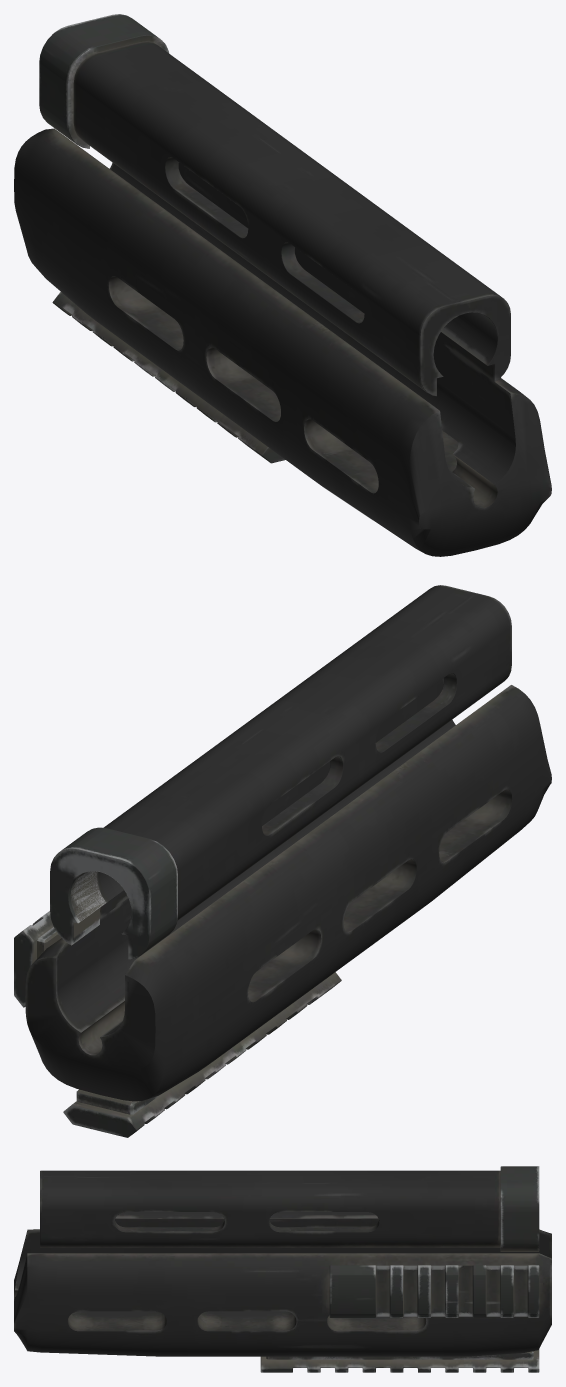
Rendered from guarda_mao_fendas_ak_gasto.glb.
The picture shows the model from 3 angles, top to bottom: view 1: azimuth 30°, elevation 25°; view 2: azimuth 150°, elevation 25°; view 3: azimuth 270°, elevation 25°; orthographic projection. The views are drawn at different scales.
Parts seen in each view (by area): view 1: guarda_mao_fendas_ak_gasto_guarda_mao; view 2: guarda_mao_fendas_ak_gasto_guarda_mao; view 3: guarda_mao_fendas_ak_gasto_guarda_mao.
Part boxes in pixels (bbox=[...]): guarda_mao_fendas_ak_gasto_guarda_mao: bbox=[14, 14, 551, 556]; guarda_mao_fendas_ak_gasto_guarda_mao: bbox=[14, 585, 551, 1137]; guarda_mao_fendas_ak_gasto_guarda_mao: bbox=[14, 1166, 551, 1372].
Bounding box in the file's own units: 0.043 × 0.0753 × 0.1951.
1 material, 1 textured.
